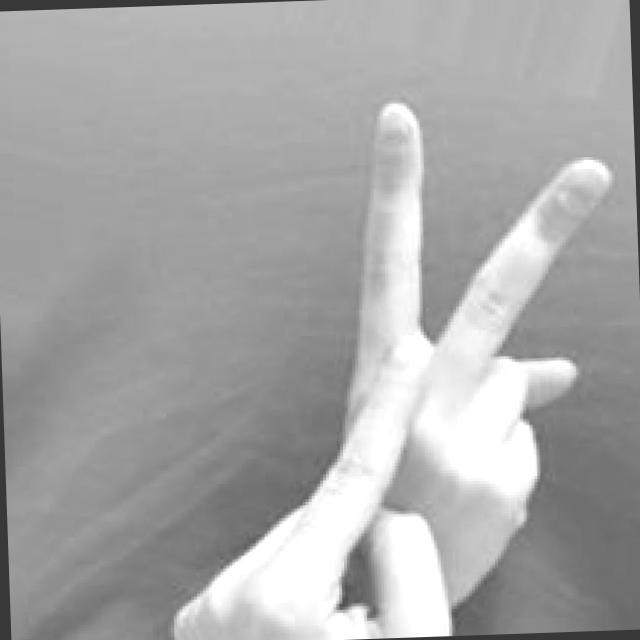Y: (158, 86, 627, 640)
